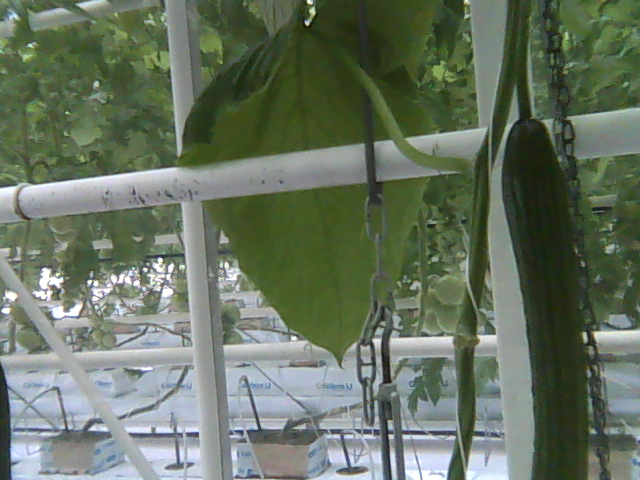concombre: (499, 106, 592, 480)
